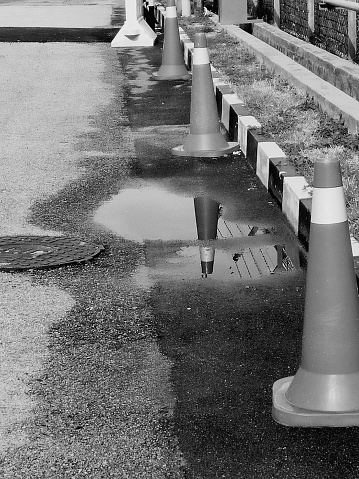trafficcone: (270, 156, 359, 427), (170, 34, 240, 159), (151, 1, 190, 80)
